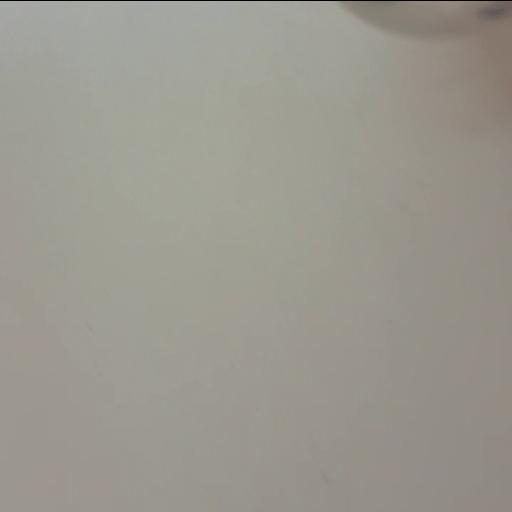alive: (335, 0, 512, 38)
